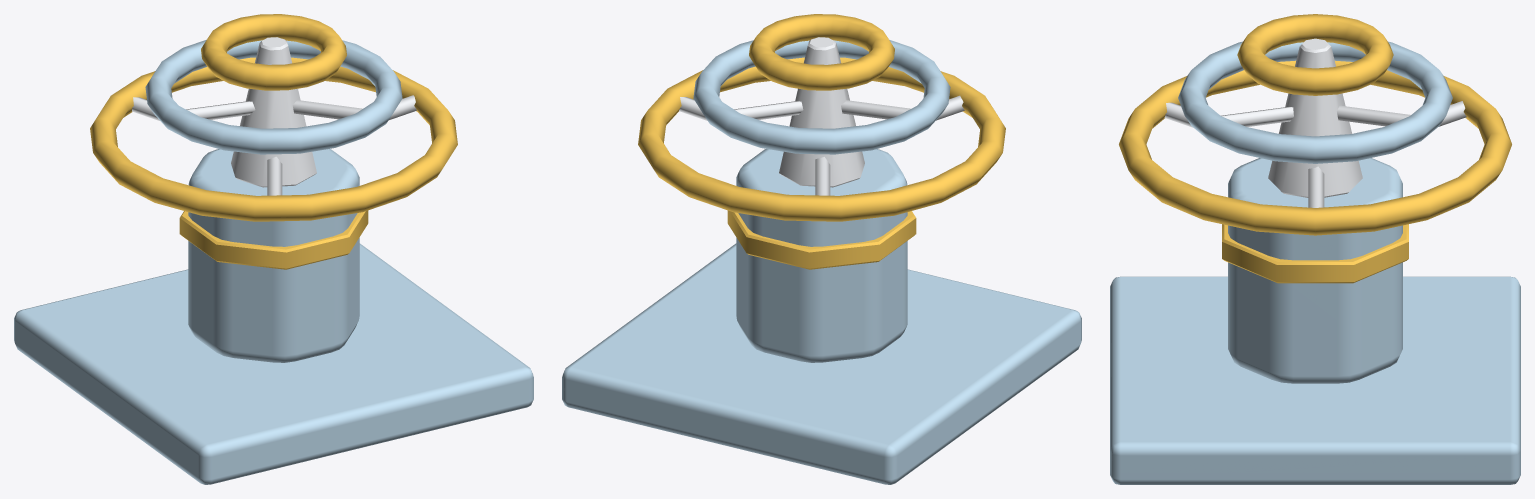
Rendered from R4X_SupportTurretDeployer.fbx.
3 views of the same model, side by side, from view 1: azimuth 30°, elevation 25°; view 2: azimuth 150°, elevation 25°; view 3: azimuth 270°, elevation 25° (orthographic). The views are drawn at different scales.
Visible parts, largest first — view 1: R4X_SupportTurretDeployer_Pod, R4X_SupportTurretDeployer_Body; view 2: R4X_SupportTurretDeployer_Pod, R4X_SupportTurretDeployer_Body; view 3: R4X_SupportTurretDeployer_Pod, R4X_SupportTurretDeployer_Body.
Part boxes in pixels (x1,y1,x2,y2): R4X_SupportTurretDeployer_Pod: [90, 14, 457, 362]; R4X_SupportTurretDeployer_Body: [14, 243, 533, 484]; R4X_SupportTurretDeployer_Pod: [638, 14, 1005, 362]; R4X_SupportTurretDeployer_Body: [562, 243, 1081, 484]; R4X_SupportTurretDeployer_Pod: [1119, 14, 1511, 383]; R4X_SupportTurretDeployer_Body: [1110, 276, 1520, 484].
Size of the model in its own units: 0.52 by 0.5002 by 0.52.
